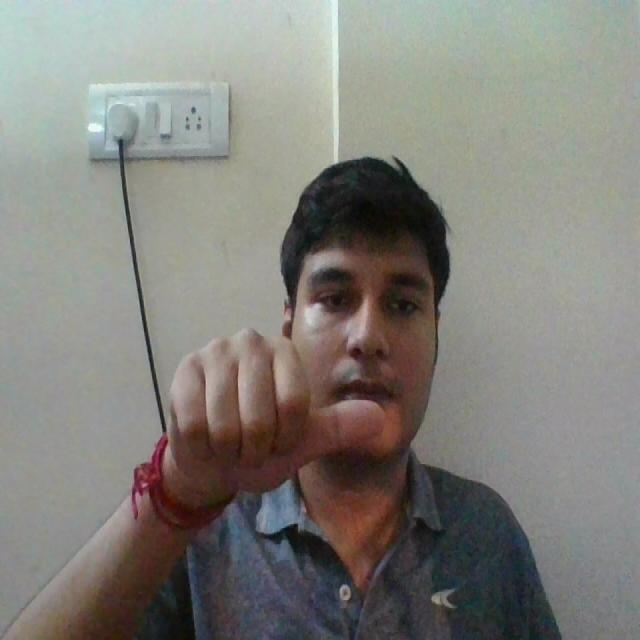Yes: (135, 316, 403, 527)
